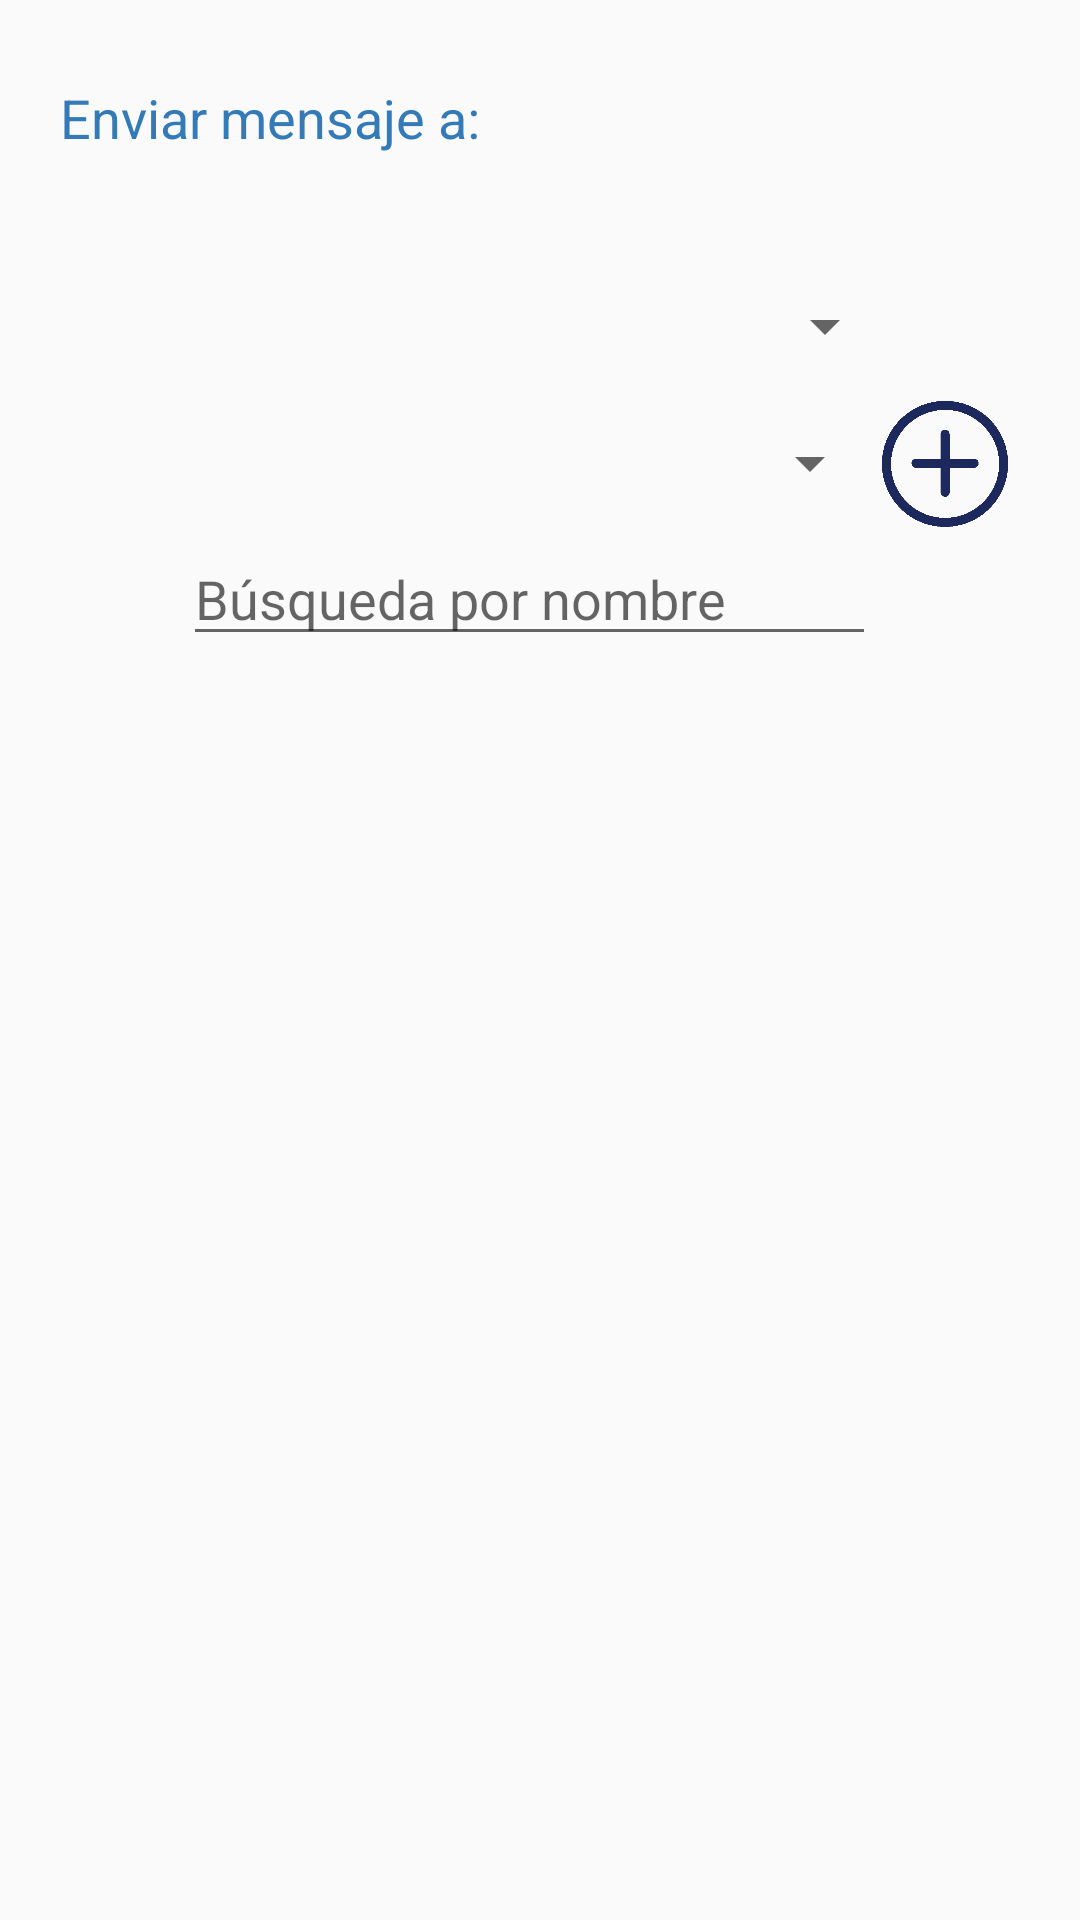

Screen size 1080*1920. Icon name, then its center in pixels as (x,y):
agregar: (945,464)
